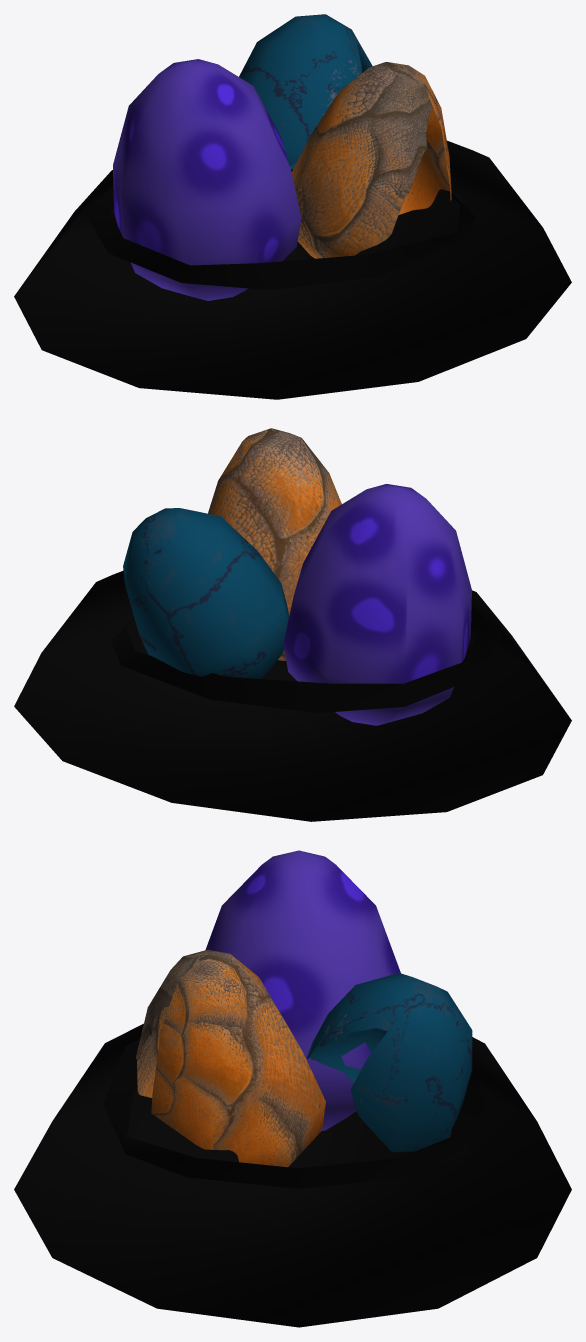
File: 3D_Uova.fbx
3 renders of one model, top to bottom at view 1: azimuth 30°, elevation 25°; view 2: azimuth 150°, elevation 25°; view 3: azimuth 270°, elevation 25°, orthographic. The views are drawn at different scales.
Visible parts, largest first — view 1: Circle, Sphere, Sphere.001, Sphere.002; view 2: Circle, Sphere, Sphere.002, Sphere.001; view 3: Circle, Sphere.001, Sphere, Sphere.002.
Part boxes in pixels (x1,y1,x2,y2): Circle: (14, 140, 571, 399); Sphere: (113, 59, 301, 300); Sphere.001: (291, 62, 451, 258); Sphere.002: (239, 14, 372, 169); Circle: (14, 570, 571, 821); Sphere: (283, 484, 471, 725); Sphere.002: (123, 508, 288, 678); Sphere.001: (208, 428, 341, 660); Circle: (14, 1023, 571, 1327); Sphere.001: (135, 949, 325, 1167); Sphere: (205, 850, 400, 1130); Sphere.002: (307, 973, 472, 1152).
Bounding box in the file's own units: 207 × 98.83 × 177.
